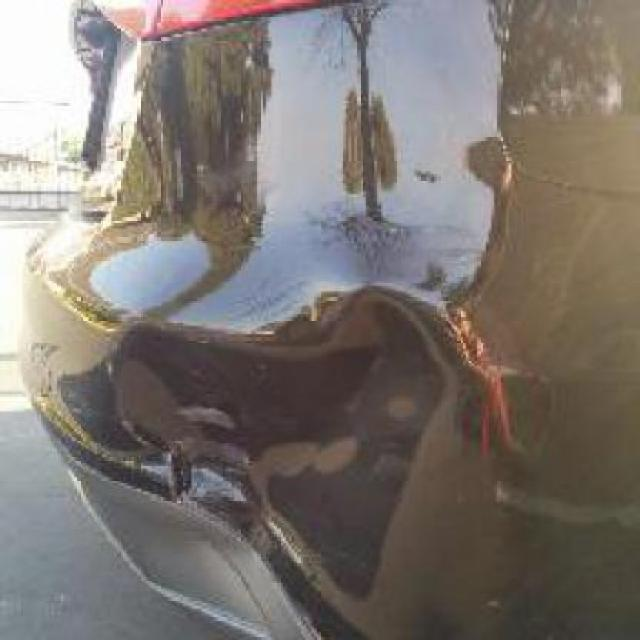dent-or-scratch: (252, 280, 531, 568)
